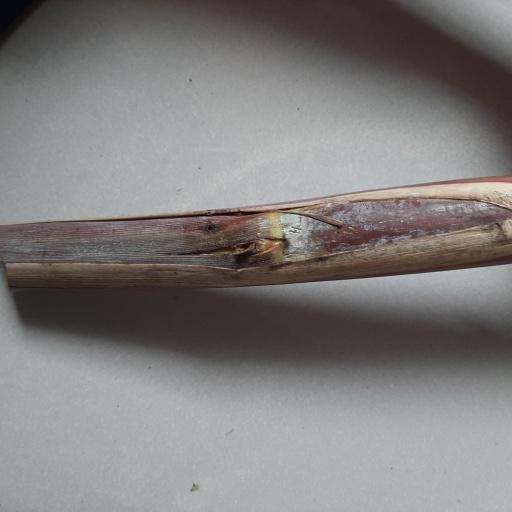Damage_Bud: (223, 236, 284, 258)
